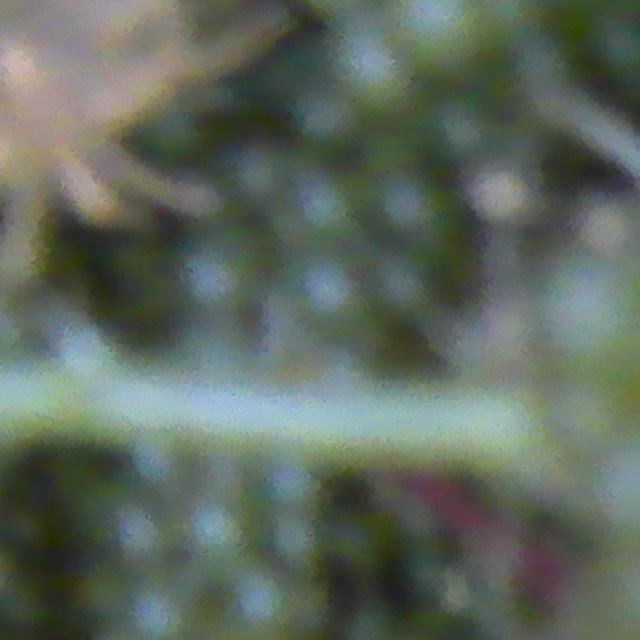SeaGrape: (514, 265, 640, 369), (538, 383, 640, 467), (398, 0, 493, 78), (335, 38, 403, 111), (294, 254, 359, 324), (375, 170, 443, 236), (291, 170, 356, 237), (294, 85, 356, 146), (126, 582, 191, 640), (572, 200, 634, 259), (186, 500, 246, 558), (472, 167, 530, 222), (512, 207, 570, 262), (532, 227, 590, 282)
